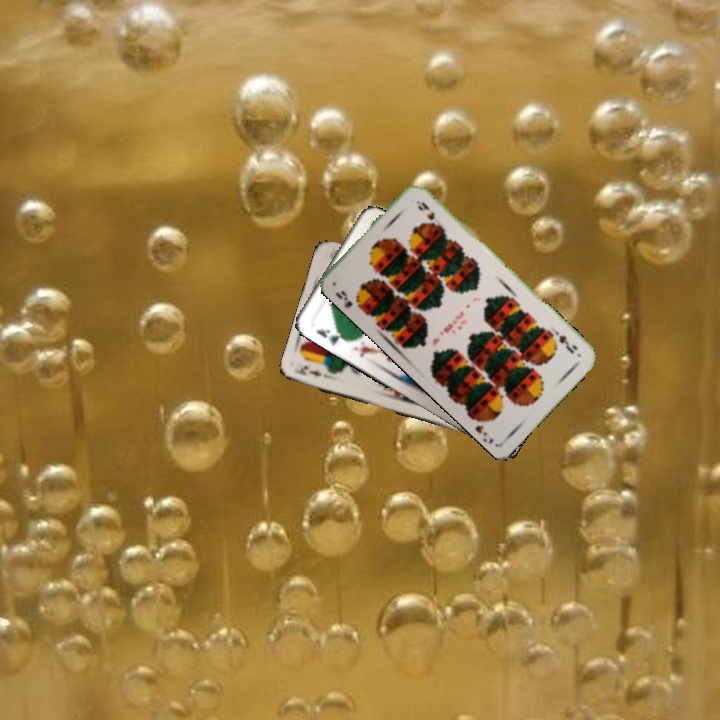EK: (293, 362, 324, 379)
GK: (312, 325, 346, 348)
S9: (331, 286, 365, 312), (554, 331, 580, 356)
